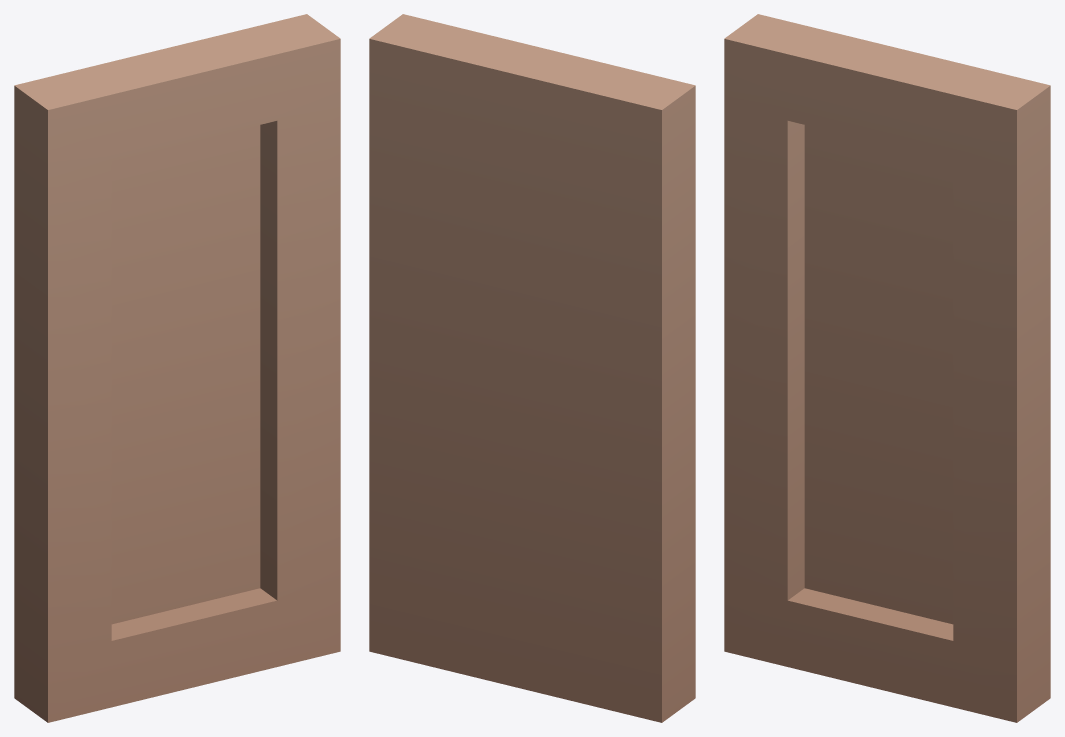
Rendered from door-brown.glb.
The picture shows the model from 3 angles, left to right: view 1: azimuth 30°, elevation 25°; view 2: azimuth 150°, elevation 25°; view 3: azimuth 330°, elevation 25°; orthographic projection.
Parts seen in each view (by area): view 1: door-brown; view 2: door-brown; view 3: door-brown.
Boxes of the visible parts, x1,y1,x2,y2 form: door-brown: (14, 14, 340, 722); door-brown: (369, 14, 695, 722); door-brown: (724, 14, 1050, 722).
Bounding box in the file's own units: 0.25 × 0.5 × 0.05.
